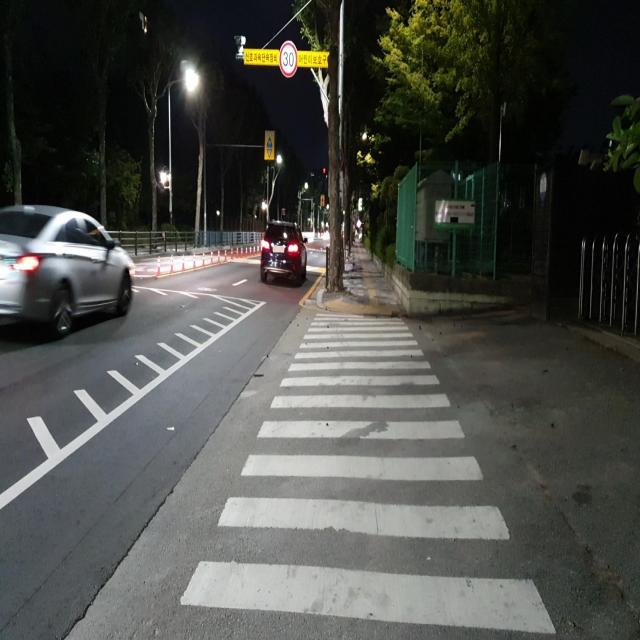횡단보도: (178, 312, 558, 636)
